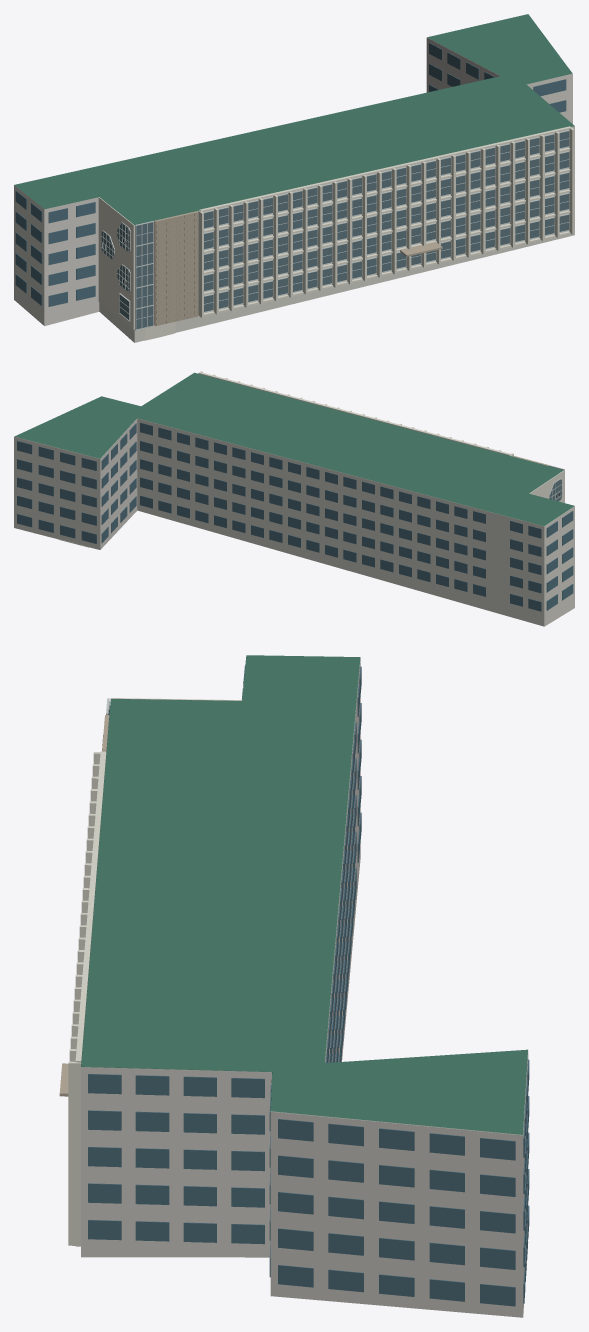
Rendered from fragments.glb.
The picture shows the model from 3 angles, top to bottom: view 1: azimuth 30°, elevation 25°; view 2: azimuth 150°, elevation 25°; view 3: azimuth 270°, elevation 25°; orthographic projection. The views are drawn at different scales.
Parts seen in each view (by area): view 1: SM_468931920_Fragment_039, SM_468931920_Fragment_052, SM_468931920_Fragment_038, SM_468931920_Fragment_007, SM_468931920_Fragment_025, SM_468931920_Fragment_020, SM_468931920_Fragment_014, SM_468931920_Fragment_028, SM_468931920_Fragment_043, SM_468931920_Fragment_055, SM_468931920_Fragment_019, SM_468931920_Fragment_040 (+26 smaller); view 2: SM_468931920_Fragment_003, SM_468931920_Fragment_016, SM_468931920_Fragment_026, SM_468931920_Fragment_058, SM_468931920_Fragment_009, SM_468931920_Fragment_053, SM_468931920_Fragment_008, SM_468931920_Fragment_001, SM_468931920_Fragment_051, SM_468931920_Fragment_018, SM_468931920_Fragment_020, SM_468931920_Fragment_034 (+29 smaller); view 3: SM_468931920_Fragment_001, SM_468931920_Fragment_063, SM_468931920_Fragment_060, SM_468931920_Fragment_011, SM_468931920_Fragment_030, SM_468931920_Fragment_007, SM_468931920_Fragment_021, SM_468931920_Fragment_061, SM_468931920_Fragment_048, SM_468931920_Fragment_036, SM_468931920_Fragment_034, SM_468931920_Fragment_013 (+22 smaller).
Boxes of the visible parts, x1=… form: SM_468931920_Fragment_039: x1=98, y1=197, x2=197, y2=329; SM_468931920_Fragment_052: x1=204, y1=146, x2=570, y2=277; SM_468931920_Fragment_038: x1=477, y1=127, x2=574, y2=251; SM_468931920_Fragment_007: x1=199, y1=126, x2=571, y2=232; SM_468931920_Fragment_025: x1=204, y1=180, x2=273, y2=314; SM_468931920_Fragment_020: x1=14, y1=174, x2=85, y2=274; SM_468931920_Fragment_014: x1=263, y1=185, x2=332, y2=308; SM_468931920_Fragment_028: x1=423, y1=128, x2=510, y2=257; SM_468931920_Fragment_043: x1=26, y1=253, x2=114, y2=326; SM_468931920_Fragment_055: x1=204, y1=210, x2=570, y2=316; SM_468931920_Fragment_019: x1=67, y1=175, x2=151, y2=259; SM_468931920_Fragment_040: x1=322, y1=175, x2=376, y2=287; SM_468931920_Fragment_003: x1=484, y1=520, x2=574, y2=626; SM_468931920_Fragment_016: x1=405, y1=486, x2=503, y2=560; SM_468931920_Fragment_026: x1=337, y1=470, x2=411, y2=542; SM_468931920_Fragment_058: x1=48, y1=436, x2=117, y2=510; SM_468931920_Fragment_009: x1=375, y1=518, x2=443, y2=594; SM_468931920_Fragment_053: x1=248, y1=471, x2=319, y2=532; SM_468931920_Fragment_008: x1=200, y1=432, x2=263, y2=514; SM_468931920_Fragment_001: x1=14, y1=414, x2=81, y2=496; SM_468931920_Fragment_051: x1=134, y1=413, x2=208, y2=470; SM_468931920_Fragment_018: x1=124, y1=451, x2=186, y2=524; SM_468931920_Fragment_020: x1=503, y1=497, x2=574, y2=563; SM_468931920_Fragment_034: x1=299, y1=439, x2=372, y2=502; SM_468931920_Fragment_001: x1=378, y1=1089, x2=526, y2=1236; SM_468931920_Fragment_063: x1=81, y1=1046, x2=245, y2=1185; SM_468931920_Fragment_060: x1=312, y1=1145, x2=453, y2=1307; SM_468931920_Fragment_011: x1=269, y1=1070, x2=391, y2=1188; SM_468931920_Fragment_030: x1=81, y1=1178, x2=224, y2=1257; SM_468931920_Fragment_007: x1=75, y1=751, x2=218, y2=1062; SM_468931920_Fragment_021: x1=410, y1=1212, x2=526, y2=1317; SM_468931920_Fragment_061: x1=181, y1=1031, x2=332, y2=1136; SM_468931920_Fragment_048: x1=174, y1=1136, x2=270, y2=1277; SM_468931920_Fragment_036: x1=161, y1=743, x2=332, y2=803; SM_468931920_Fragment_034: x1=198, y1=842, x2=343, y2=937; SM_468931920_Fragment_013: x1=168, y1=799, x2=319, y2=864.
Bounding box in the file's own units: 2.2 × 0.4426 × 0.9089.
